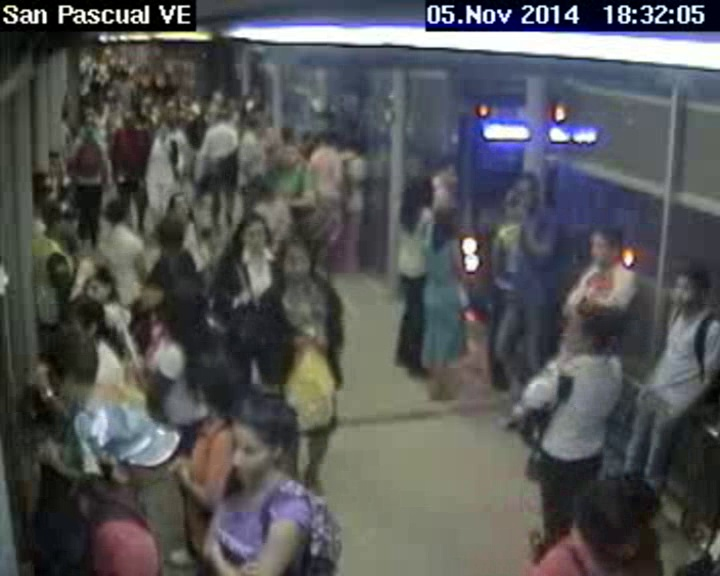person: (59, 402, 189, 487), (569, 471, 653, 558), (225, 395, 309, 481), (556, 303, 621, 354), (163, 272, 204, 342), (53, 341, 101, 395), (672, 260, 713, 315), (275, 237, 314, 290), (68, 295, 110, 343), (226, 211, 275, 251), (589, 220, 623, 271), (508, 170, 546, 212), (46, 199, 82, 243), (81, 262, 116, 301), (30, 166, 57, 209), (432, 202, 462, 239), (96, 201, 135, 229), (404, 172, 432, 208), (435, 154, 462, 186), (169, 193, 189, 222), (341, 131, 362, 158), (79, 115, 101, 136), (242, 111, 262, 133), (279, 121, 296, 146), (48, 149, 64, 174), (317, 130, 337, 149), (216, 106, 232, 129), (119, 111, 136, 129)
